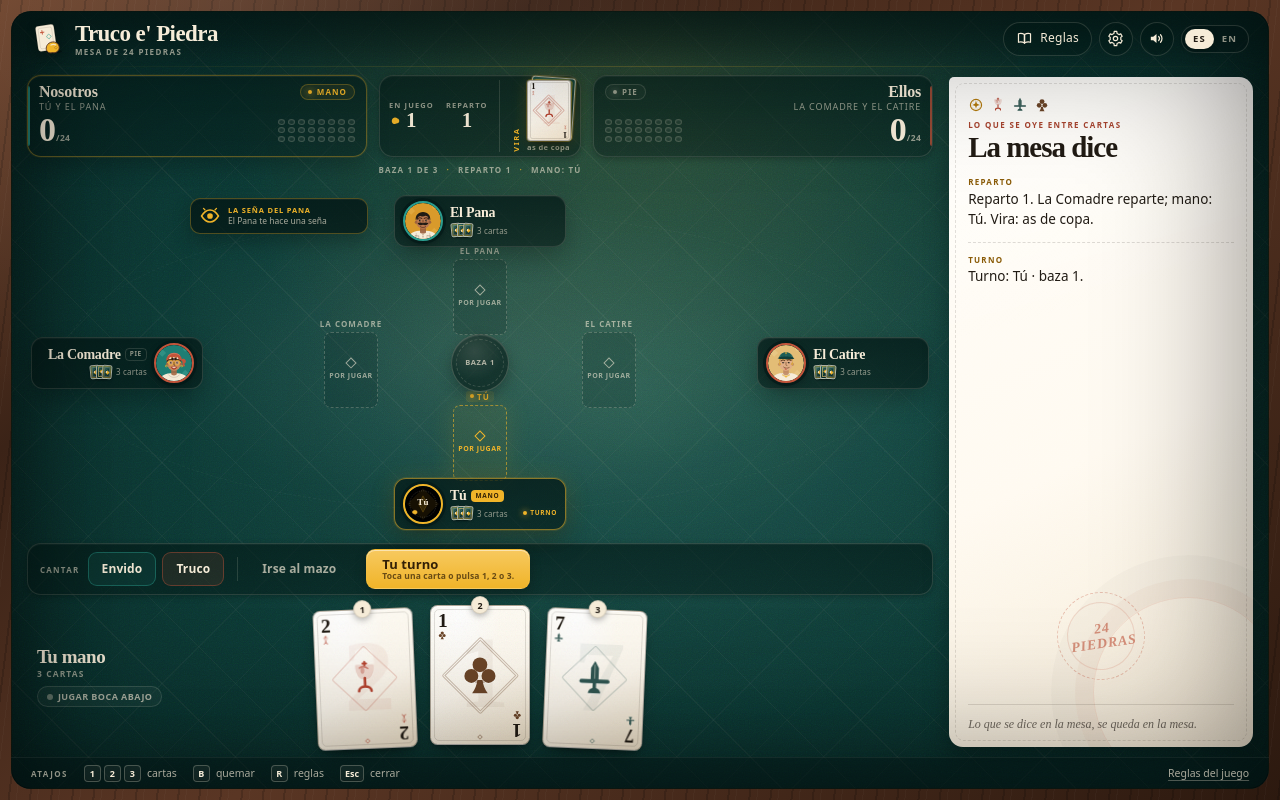
the settings panel › reads career stats from storage and clears them with confirmation
Click the button named "Abrir los ajustes de la mesa". click: [1116, 39]
box: [1099,22,1133,56]
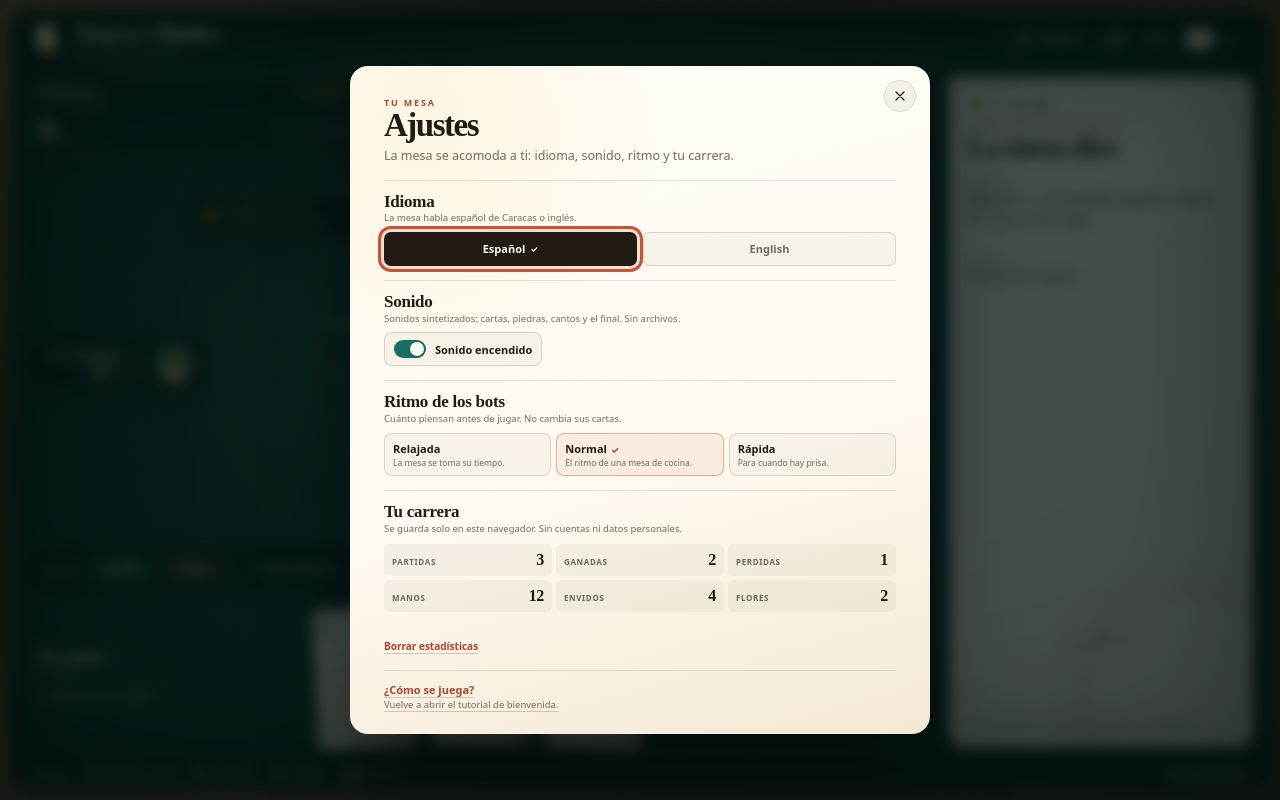
Click the button "Borrar estadísticas". click: [431, 646]
box: [384,636,478,656]
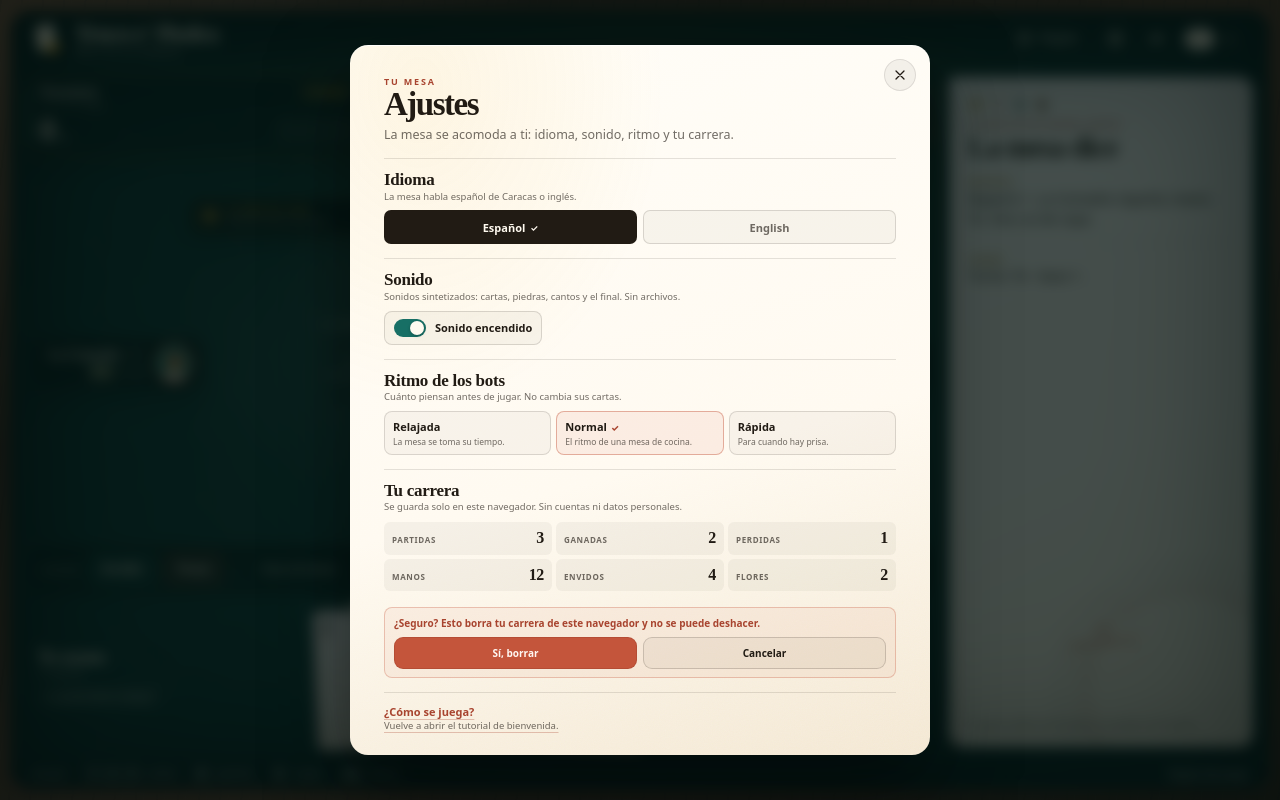
Check: the message shows "¿Seguro? Esto borra tu carrera", box [394,616,760,630]
Click the button "Sí, borrar". click: [516, 653]
box: [394,637,637,669]
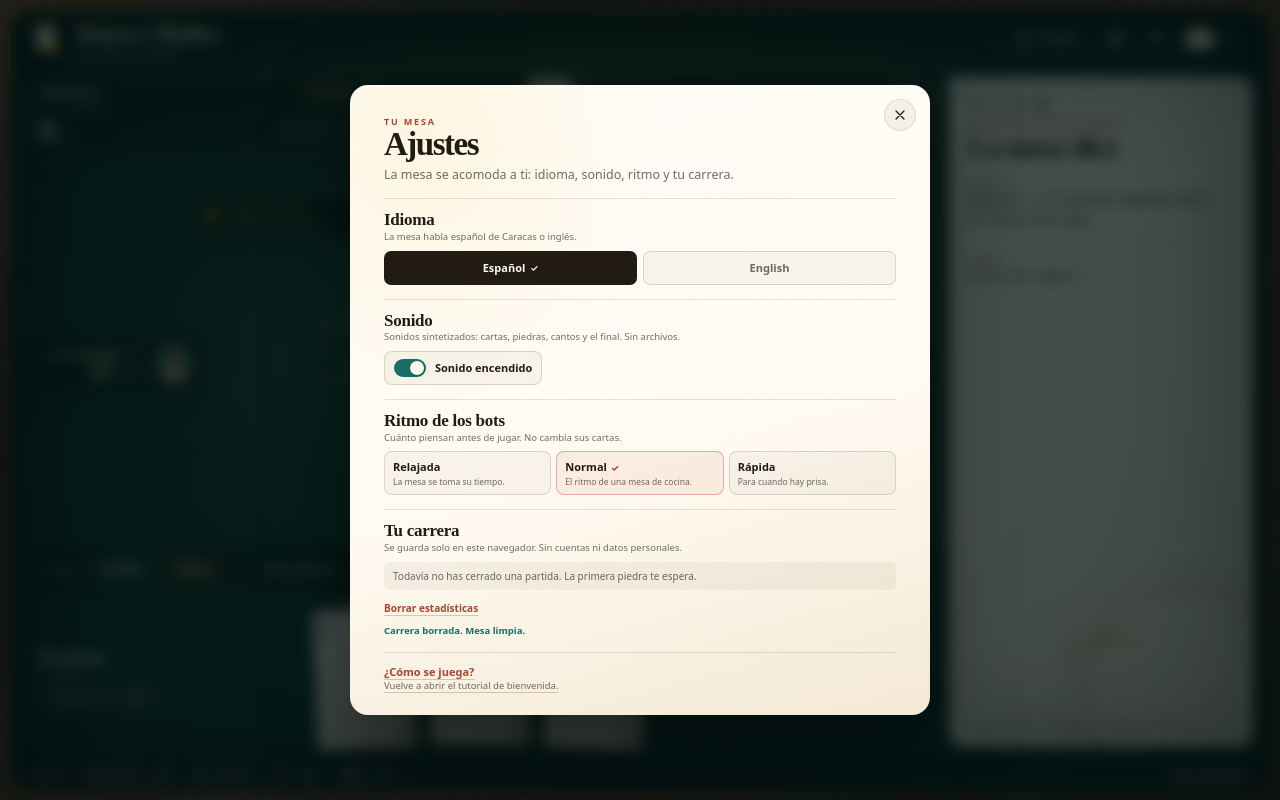
Check: the text "Todavía no has cerrado una partida" is shown, box [393,569,696,583]
Check: the message shows "Carrera borrada", box [384,624,525,637]
